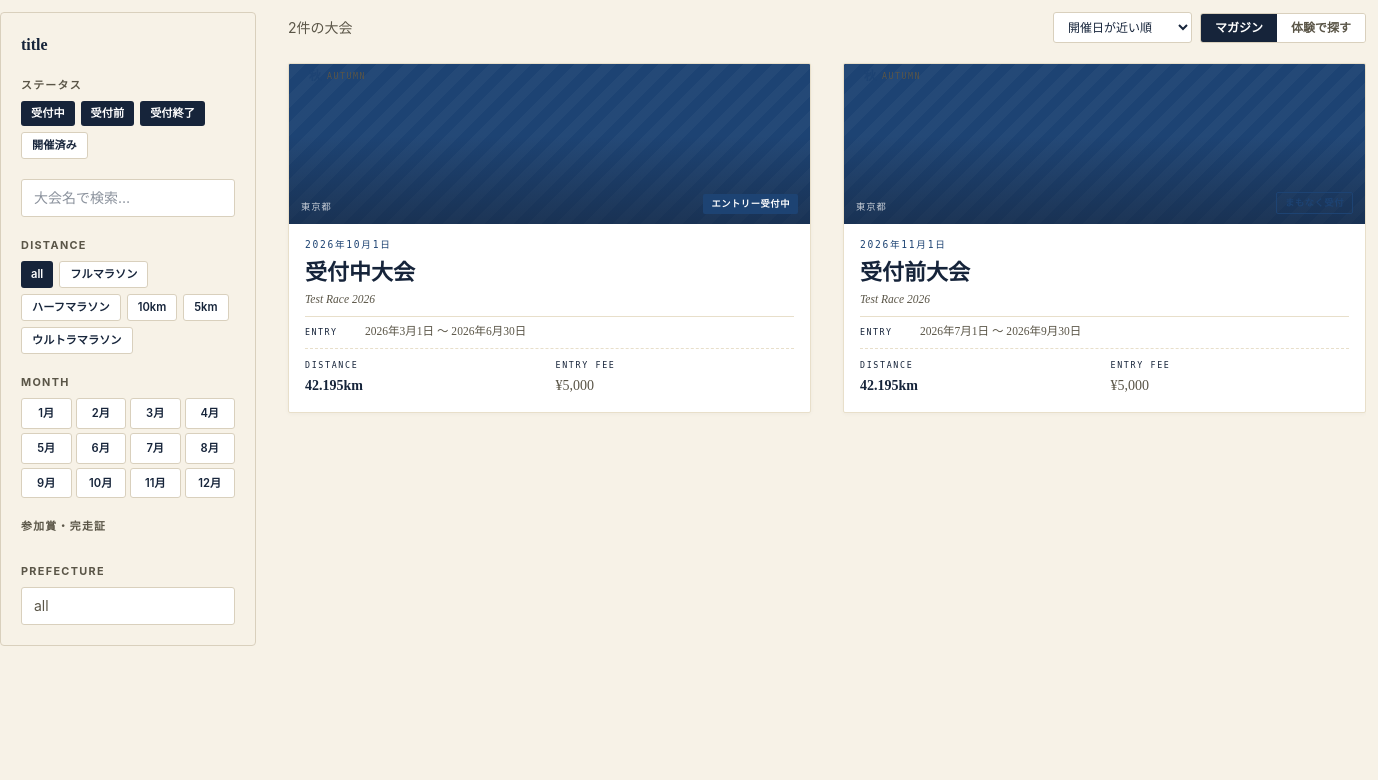
Scenario: RaceList - ビュー切り替え › 「体験で探す」ボタンでビューが切り替わる
Click the button "体験で探す".
click(1321, 28)  # box [1277, 14, 1365, 42]
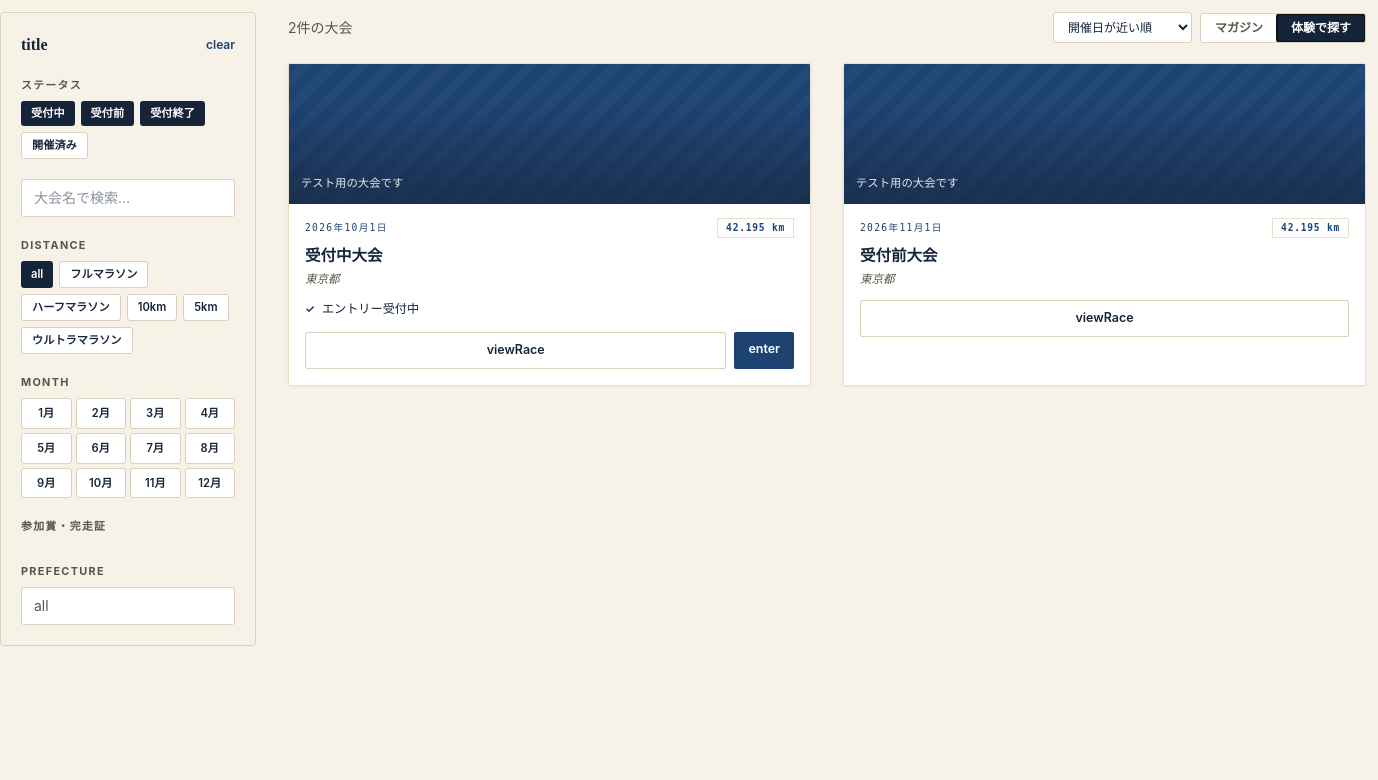
Expected: the element that starts with "テスト用の大会です" is shown, [288, 63, 811, 386]
